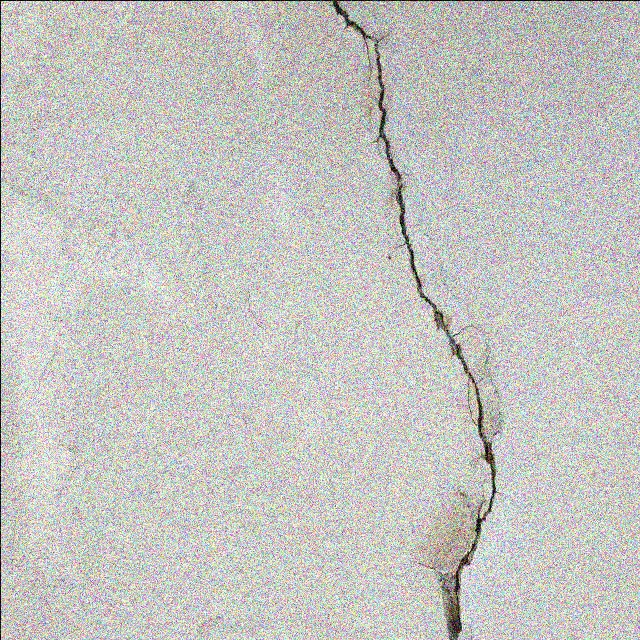SurfaceCrack: (252, 1, 537, 640)
